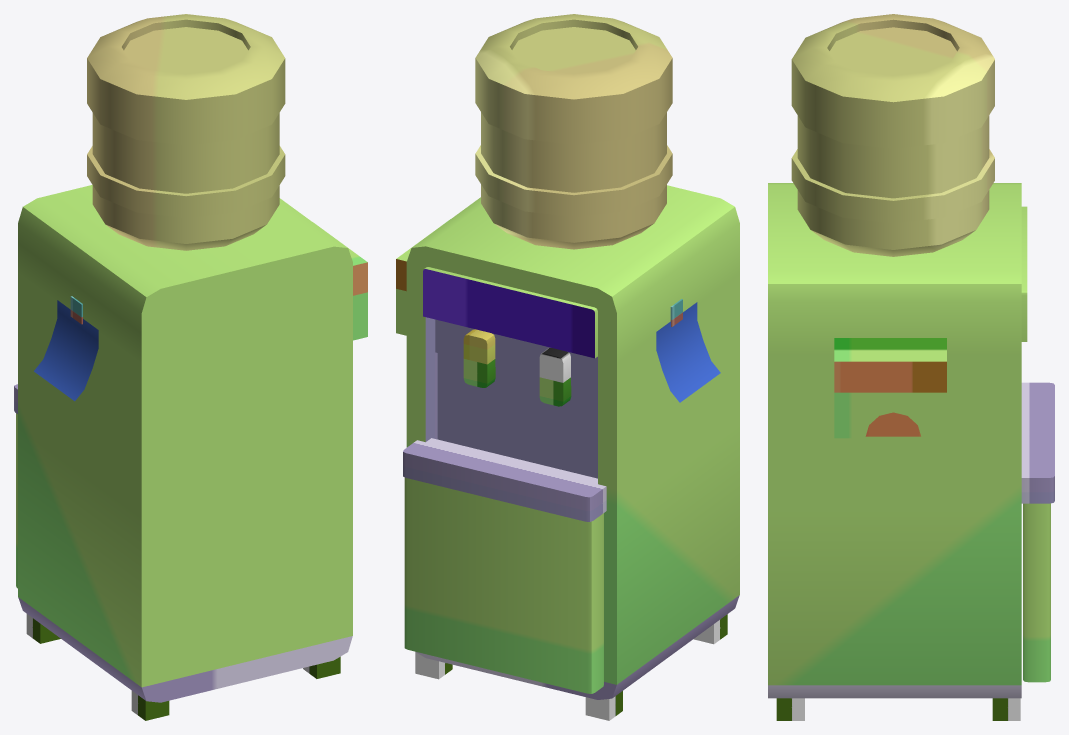
The model's file is Water_Purifier.fbx.
3 views of the same model, side by side, from view 1: azimuth 30°, elevation 25°; view 2: azimuth 150°, elevation 25°; view 3: azimuth 270°, elevation 25° (orthographic). The views are drawn at different scales.
Visible parts, largest first — view 1: Water_Purifier; view 2: Water_Purifier; view 3: Water_Purifier.
Part boxes in pixels (<box>): Water_Purifier: <box>14,14,367,720</box>; Water_Purifier: <box>396,14,739,720</box>; Water_Purifier: <box>768,14,1054,720</box>.
Bounding box in the file's own units: 59.3 × 122 × 50.89.
